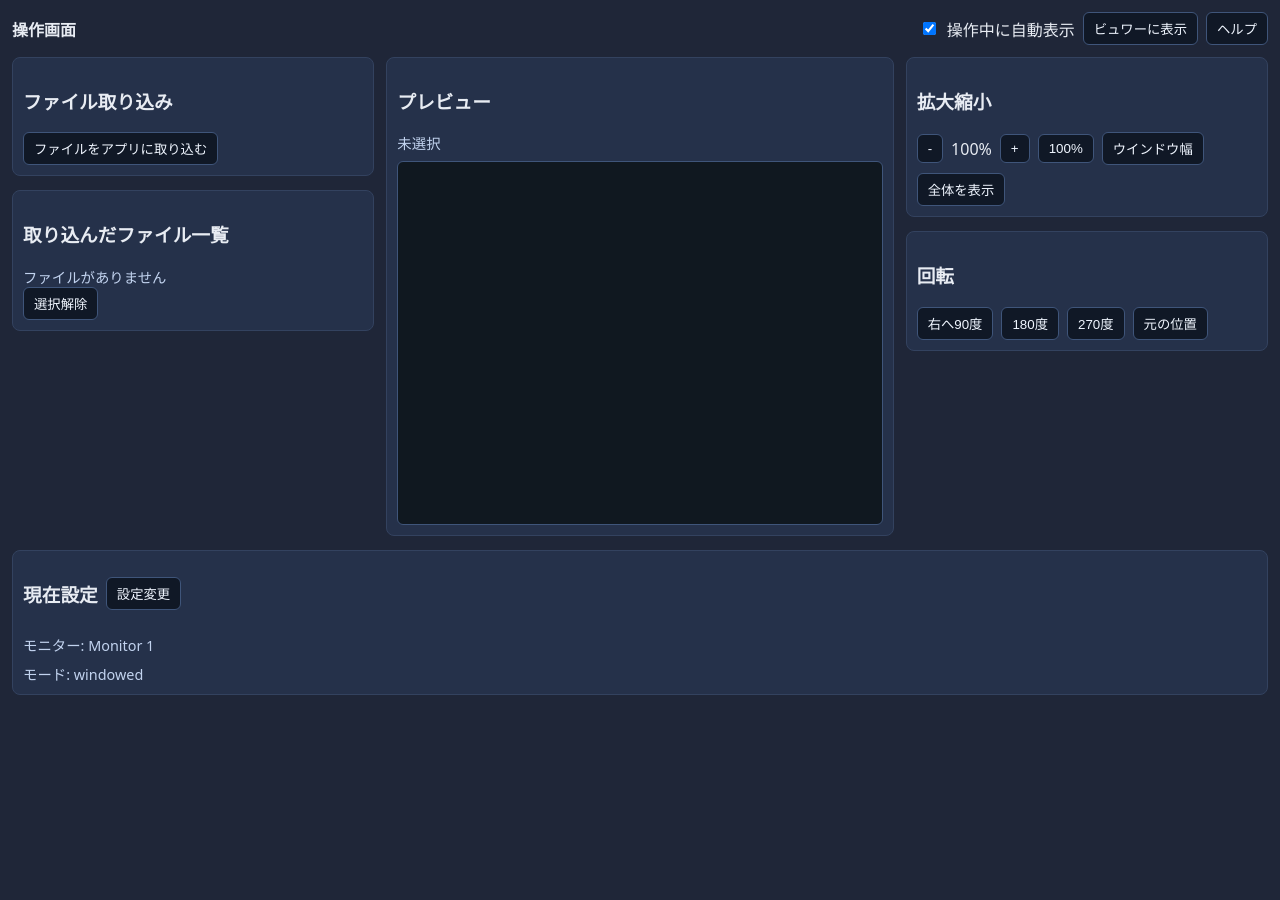
Test case: ControlPanel › ヘルプダイアログを閉じられる
The image size is (1280, 900).
Step 1. Click the button "ヘルプ" → x=1237, y=28, box top-left (1206, 12), bottom-right (1268, 45)
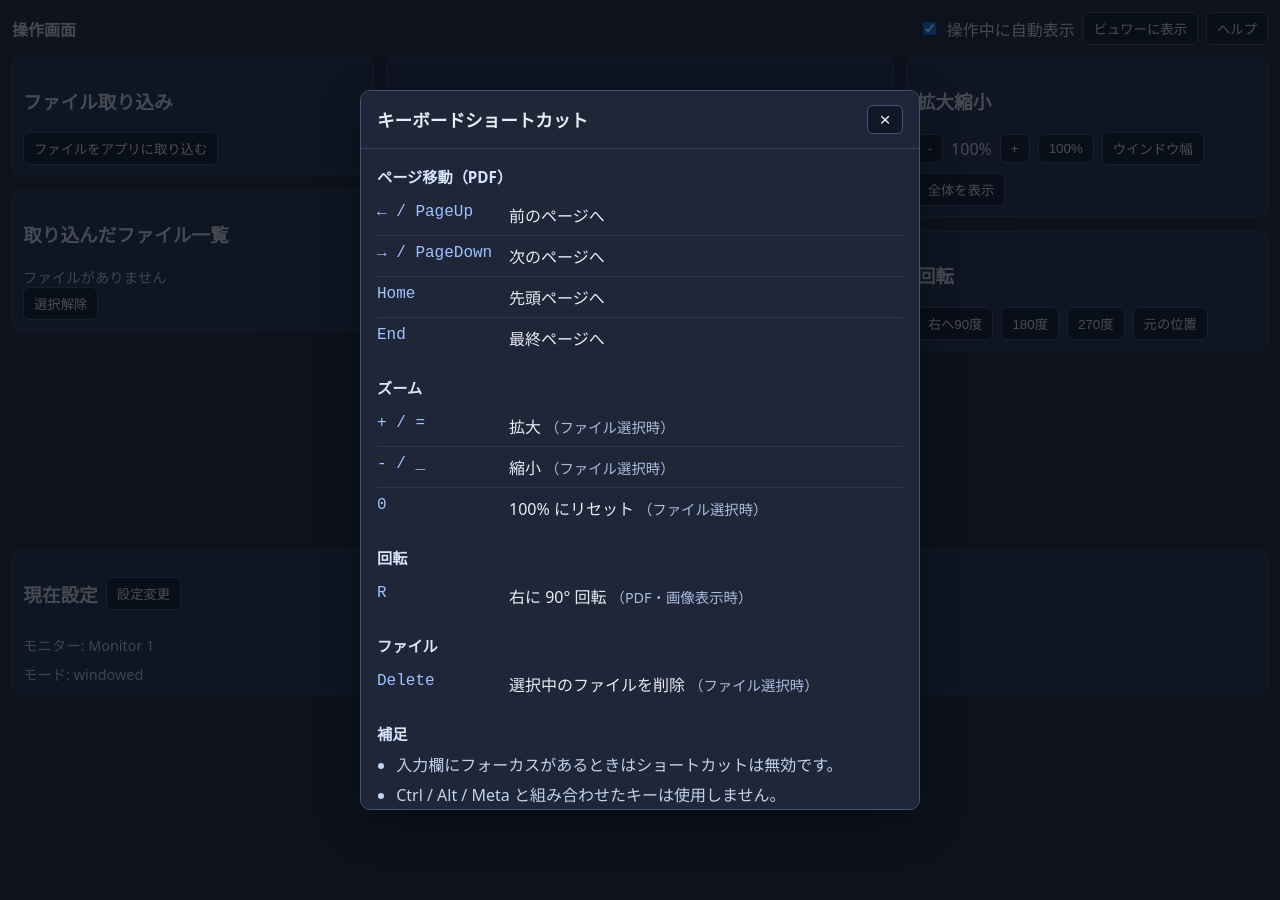
Step 2. Click the button named "閉じる" → x=885, y=120, box top-left (867, 105), bottom-right (903, 134)
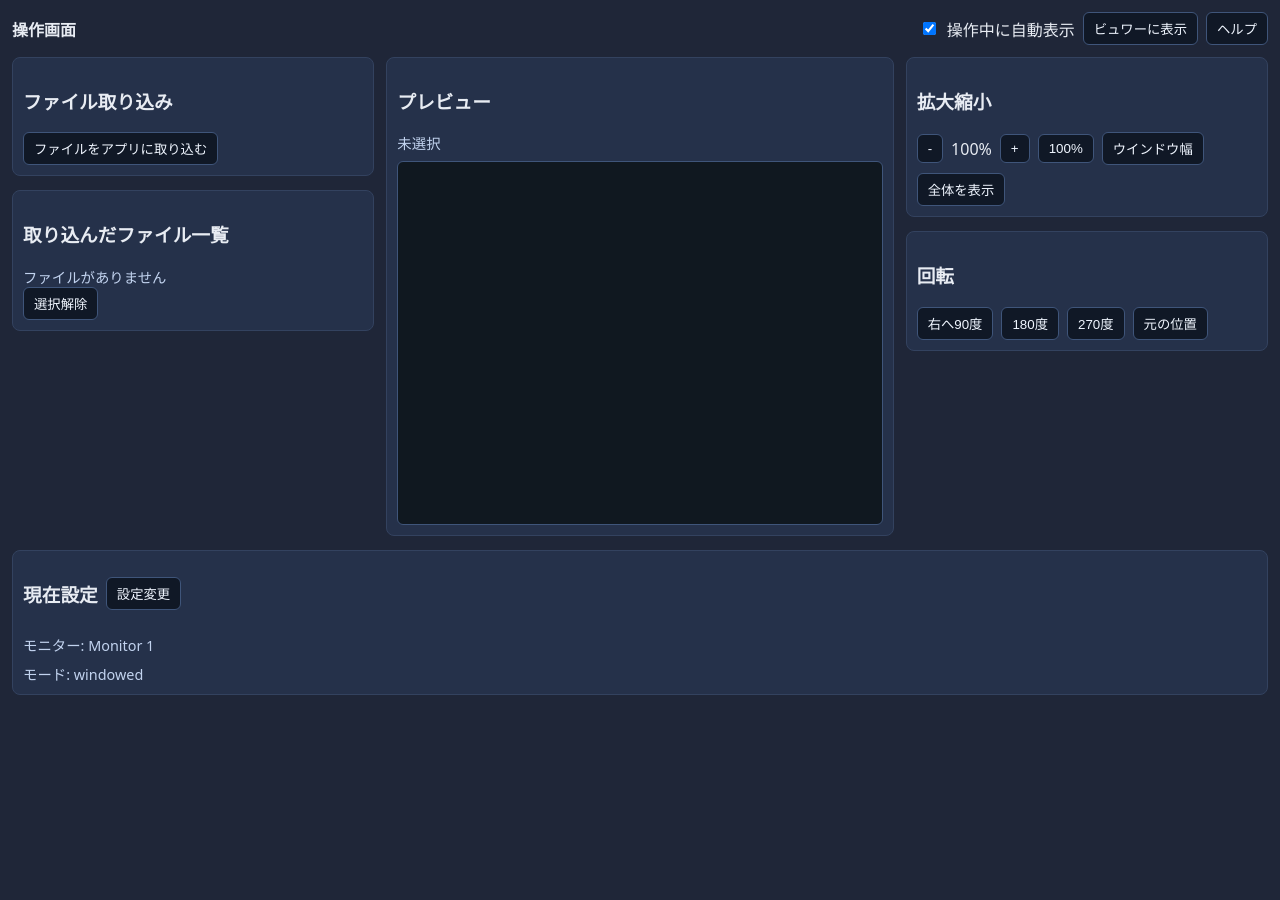
Now the dialog is gone
